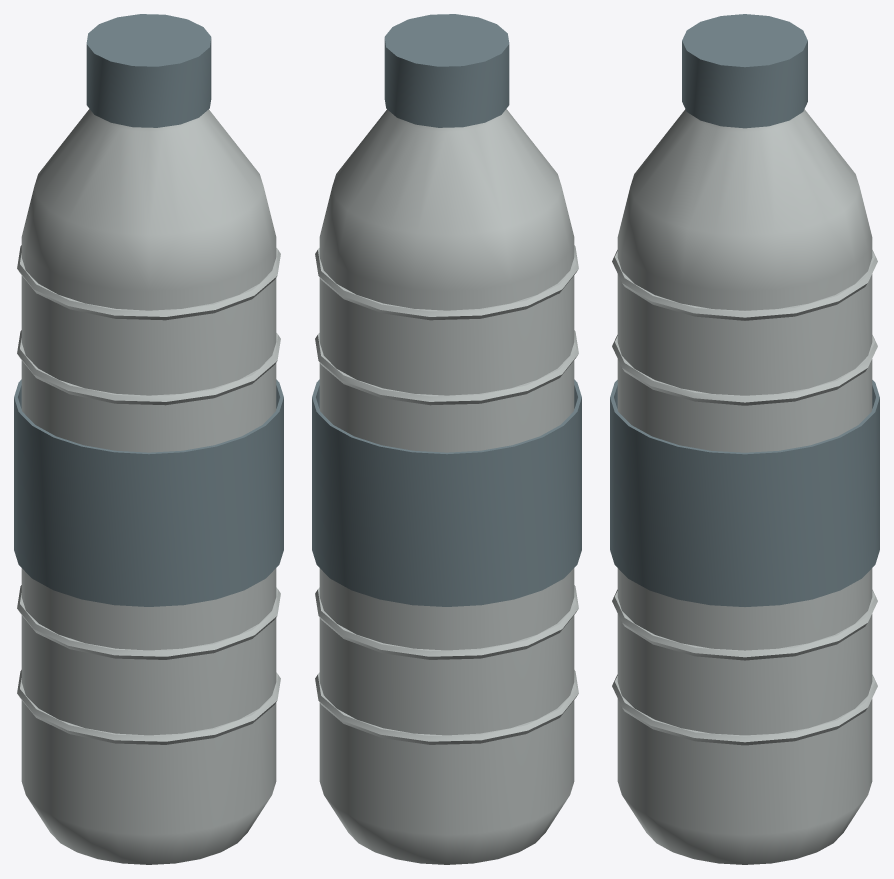
File: water-bottle.glb
3 renders of one model, left to right at view 1: azimuth 30°, elevation 25°; view 2: azimuth 150°, elevation 25°; view 3: azimuth 270°, elevation 25°, orthographic.
Parts seen in each view (by area): view 1: bottle_body, label_wrap, closure, moulded_rib.003, moulded_rib, moulded_rib.001, moulded_rib.002; view 2: bottle_body, label_wrap, closure, moulded_rib.003, moulded_rib, moulded_rib.001, moulded_rib.002; view 3: bottle_body, label_wrap, closure, moulded_rib.003, moulded_rib.002, moulded_rib.001, moulded_rib.
Part boxes in pixels (x1,y1,x2,y2): bottle_body: [21, 109, 276, 864]; label_wrap: [14, 379, 283, 606]; closure: [86, 14, 211, 127]; moulded_rib.003: [17, 245, 280, 320]; moulded_rib: [17, 670, 280, 744]; moulded_rib.001: [17, 585, 280, 659]; moulded_rib.002: [17, 330, 280, 405]; bottle_body: [319, 109, 574, 864]; label_wrap: [312, 379, 581, 606]; closure: [384, 14, 509, 127]; moulded_rib.003: [315, 245, 578, 320]; moulded_rib: [315, 670, 578, 744]; moulded_rib.001: [315, 585, 578, 659]; moulded_rib.002: [315, 330, 578, 405]; bottle_body: [617, 109, 872, 864]; label_wrap: [610, 380, 879, 606]; closure: [682, 14, 807, 128]; moulded_rib.003: [612, 250, 877, 320]; moulded_rib.002: [612, 335, 877, 405]; moulded_rib.001: [612, 589, 877, 660]; moulded_rib: [612, 674, 877, 745].
Size of the model in its own units: 0.072 by 0.23 by 0.072.
